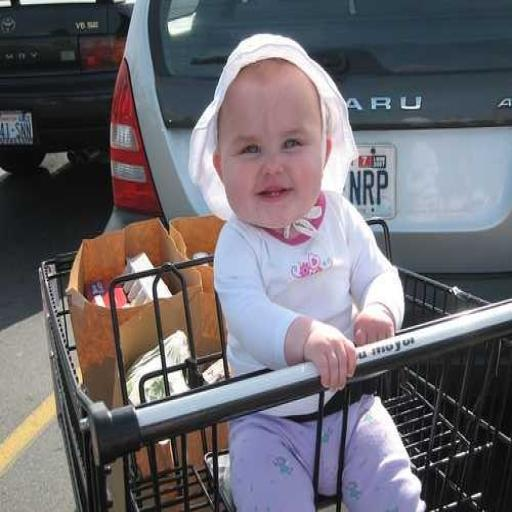shopping_cart: (38, 217, 512, 512)
